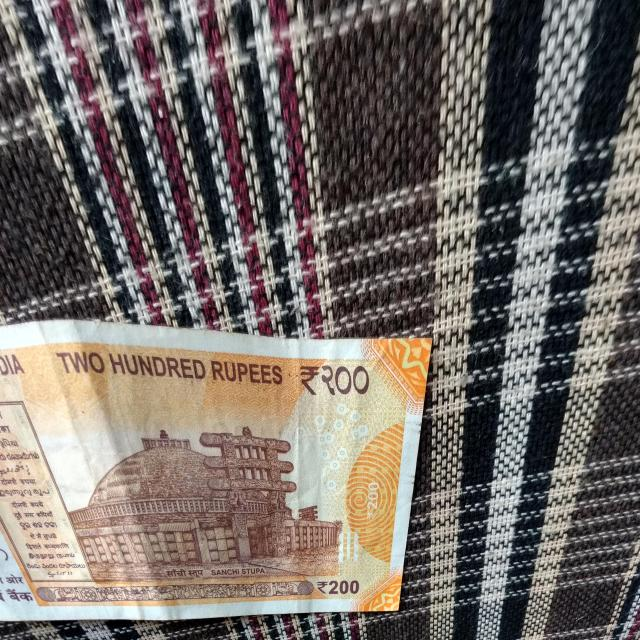Currency: (0, 324, 411, 617)
